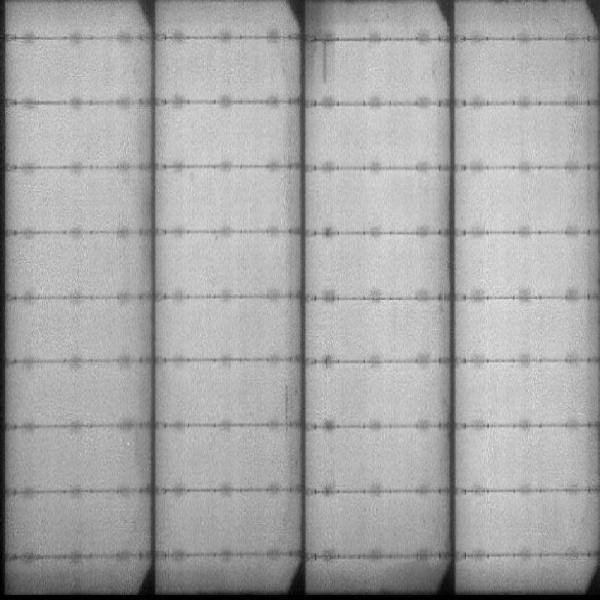scratch: (320, 38, 333, 82)
